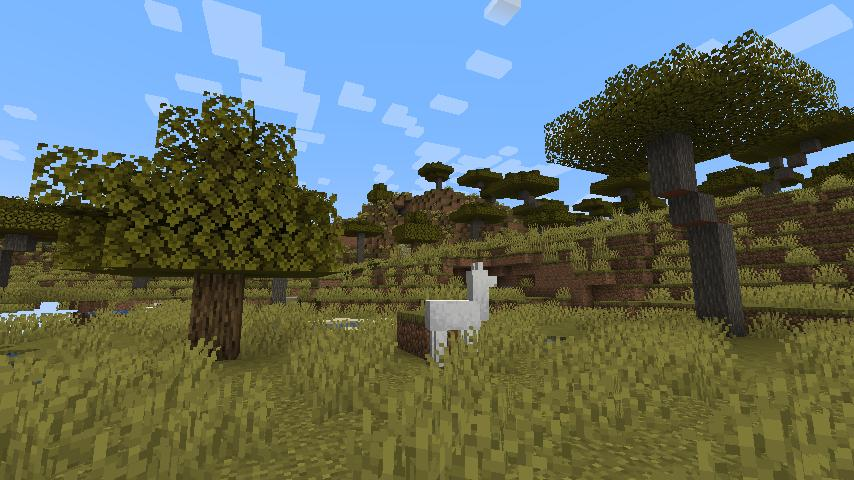llama: (425, 260, 499, 366)
